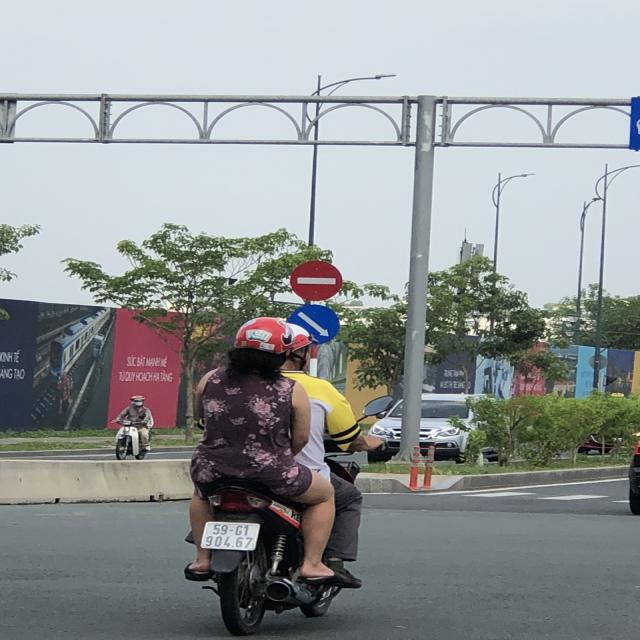Bien bao cam di nguoc chieu: (284, 255, 348, 305)
